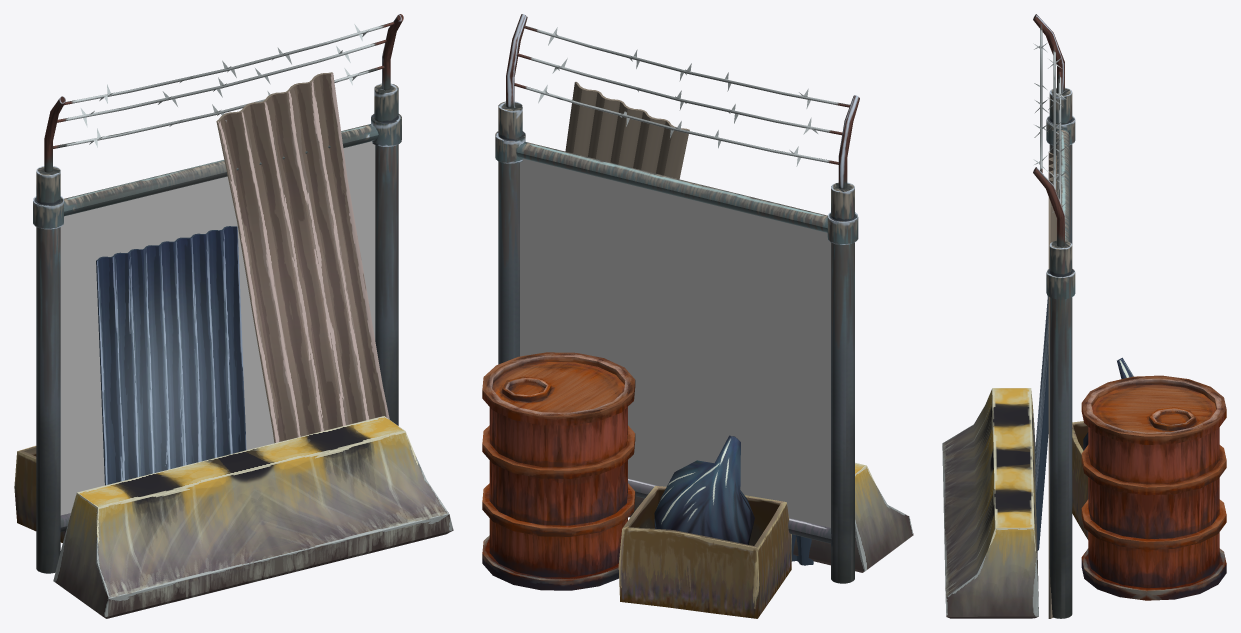
Rendered from zabor3.fbx.
The picture shows the model from 3 angles, left to right: view 1: azimuth 30°, elevation 25°; view 2: azimuth 150°, elevation 25°; view 3: azimuth 270°, elevation 25°; orthographic projection. The views are drawn at different scales.
Parts seen in each view (by area): view 1: Plane.001, Cube.098, Cube.097, Cube.096, box.002; view 2: Plane.001, Cylinder.006, box.002, Cube.097, trash.002, Cube.098; view 3: Cylinder.006, Cube.098, Plane.001, Cube.096, box.002, Cube.097.
Part boxes in pixels (x1,y1,x2,y2): Plane.001: (33,14,403,573); Cube.098: (53,416,453,618); Cube.097: (216,72,389,443); Cube.096: (96,226,246,485); box.002: (14,445,65,542); Plane.001: (495,14,859,583); Cylinder.006: (482,352,635,590); box.002: (618,486,791,618); Cube.097: (565,82,689,179); trash.002: (654,435,754,544); Cube.098: (629,462,913,572); Cylinder.006: (1081,375,1226,600); Cube.098: (942,388,1038,618); Plane.001: (1033,14,1075,618); Cube.096: (1035,296,1048,550); box.002: (1072,421,1088,539); Cube.097: (1048,152,1056,618).
Bounding box in the file's own units: 4.53 × 5.96 × 3.3.
